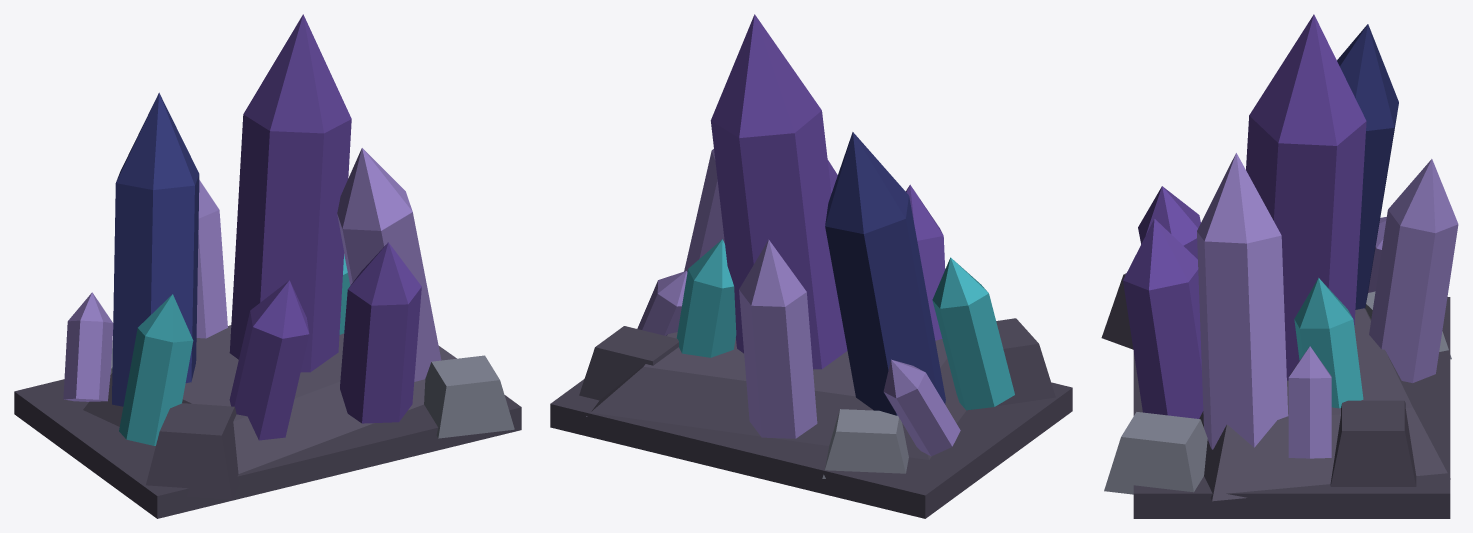
Rendered from Decor_Observatory_Crystals.fbx.
3 renders of one model, left to right at view 1: azimuth 30°, elevation 25°; view 2: azimuth 150°, elevation 25°; view 3: azimuth 270°, elevation 25°, orthographic. The views are drawn at different scales.
Visible parts, largest first — view 1: Crystals_Body; view 2: Crystals_Body; view 3: Crystals_Body.
Boxes of the visible parts, left/top/right/bottom form: Crystals_Body: left=14, top=14, right=521, bottom=518; Crystals_Body: left=550, top=14, right=1072, bottom=518; Crystals_Body: left=1101, top=14, right=1458, bottom=518.
Size of the model in its own units: 10.26 by 10.31 by 7.74.
